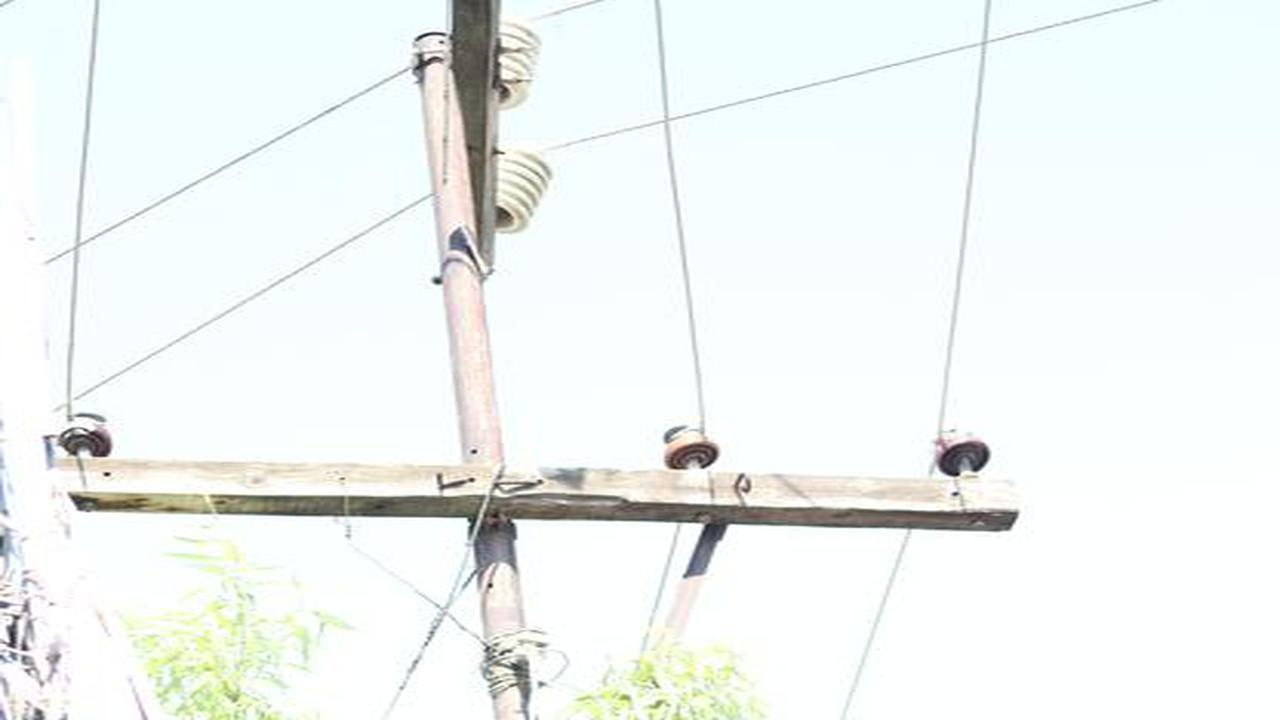defect_pin: (53, 408, 116, 464)
insulator_pin: (658, 415, 726, 473), (931, 425, 999, 480)
